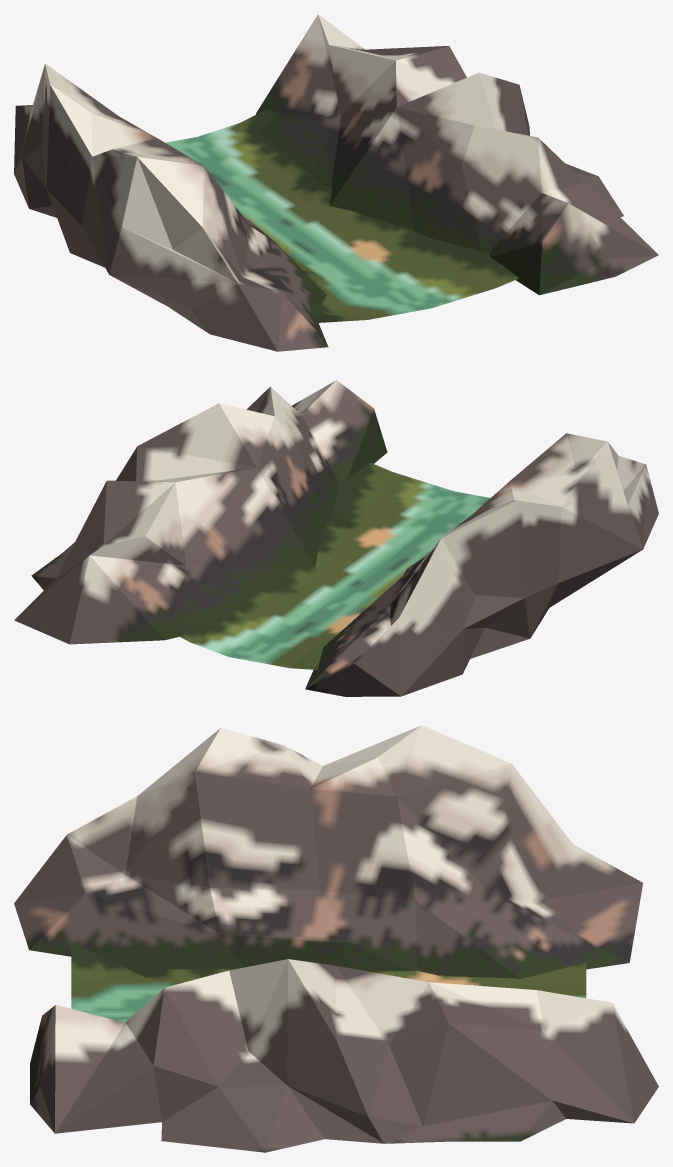
Rendered from Mountain_River_Valley.glb.
3 renders of one model, top to bottom at view 1: azimuth 30°, elevation 25°; view 2: azimuth 150°, elevation 25°; view 3: azimuth 270°, elevation 25°, orthographic. The views are drawn at different scales.
Parts seen in each view (by area): view 1: mountains_mountain_valley_0, valley_mountain_valley_0; view 2: mountains_mountain_valley_0, valley_mountain_valley_0; view 3: mountains_mountain_valley_0, valley_mountain_valley_0.
Boxes of the visible parts, bbox=[...] form: mountains_mountain_valley_0: bbox=[14, 14, 658, 351]; valley_mountain_valley_0: bbox=[165, 109, 518, 323]; mountains_mountain_valley_0: bbox=[14, 380, 658, 696]; valley_mountain_valley_0: bbox=[163, 462, 490, 669]; mountains_mountain_valley_0: bbox=[14, 725, 658, 1152]; valley_mountain_valley_0: bbox=[71, 943, 586, 1022].
Size of the model in its own units: 7.4 by 2.22 by 7.32.
Materials: 1 (1 with a texture image).
